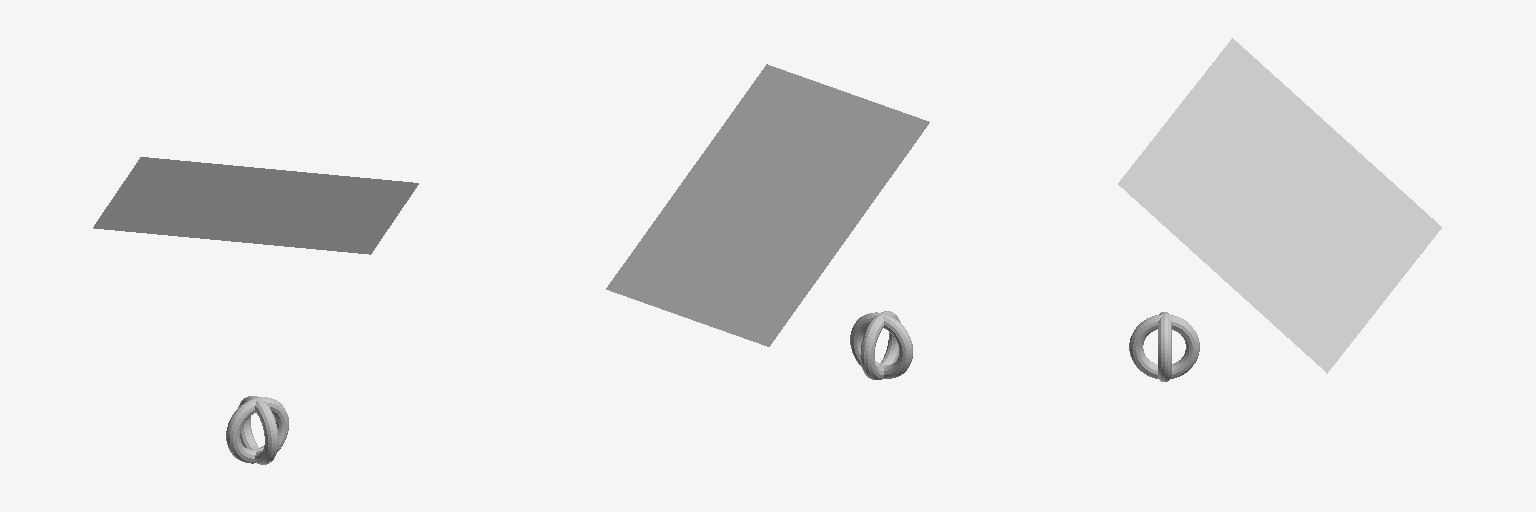
File: concave.obj
3 renders of one model, left to right at view 1: azimuth 30°, elevation 25°; view 2: azimuth 150°, elevation 25°; view 3: azimuth 270°, elevation 25°, orthographic.
Visible parts, largest first — view 1: LightSource_Plane, Torus1_Torus.001, Torus2_Torus; view 2: LightSource_Plane, Torus1_Torus.001, Torus2_Torus; view 3: LightSource_Plane, Torus2_Torus, Torus1_Torus.001.
Part boxes in pixels (x1,y1,x2,y2): LightSource_Plane: (93, 157, 418, 254); Torus1_Torus.001: (226, 397, 288, 463); Torus2_Torus: (238, 396, 278, 464); LightSource_Plane: (606, 64, 929, 346); Torus1_Torus.001: (850, 312, 912, 378); Torus2_Torus: (860, 311, 900, 379); LightSource_Plane: (1118, 38, 1441, 373); Torus2_Torus: (1129, 315, 1199, 378); Torus1_Torus.001: (1158, 312, 1171, 381).
Size of the model in its own units: 11.31 by 11.72 by 11.47.